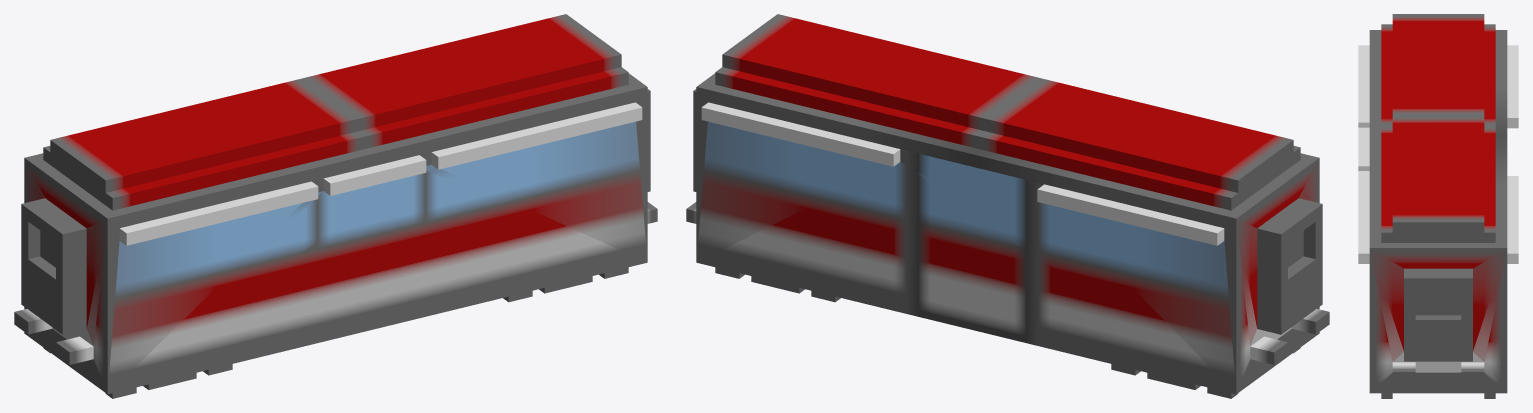
The model's file is veh_train.fbx.
The picture shows the model from 3 angles, left to right: view 1: azimuth 30°, elevation 25°; view 2: azimuth 150°, elevation 25°; view 3: azimuth 270°, elevation 25°; orthographic projection. The views are drawn at different scales.
Visible parts, largest first — view 1: veh_train; view 2: veh_train; view 3: veh_train.
Part boxes in pixels (bbox=[...]): veh_train: bbox=[14, 14, 657, 398]; veh_train: bbox=[686, 14, 1329, 398]; veh_train: bbox=[1358, 14, 1518, 398].
Bounding box in the file's own units: 4.9 × 1.4 × 1.7.
1 material, 1 textured.
